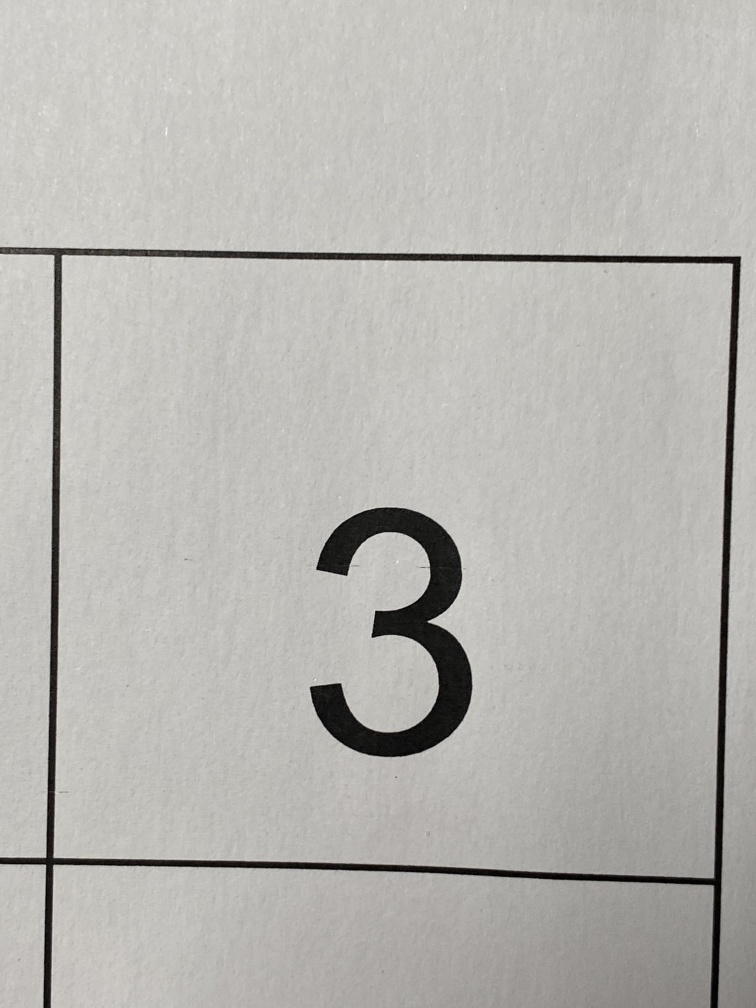three: (254, 443, 535, 810)
